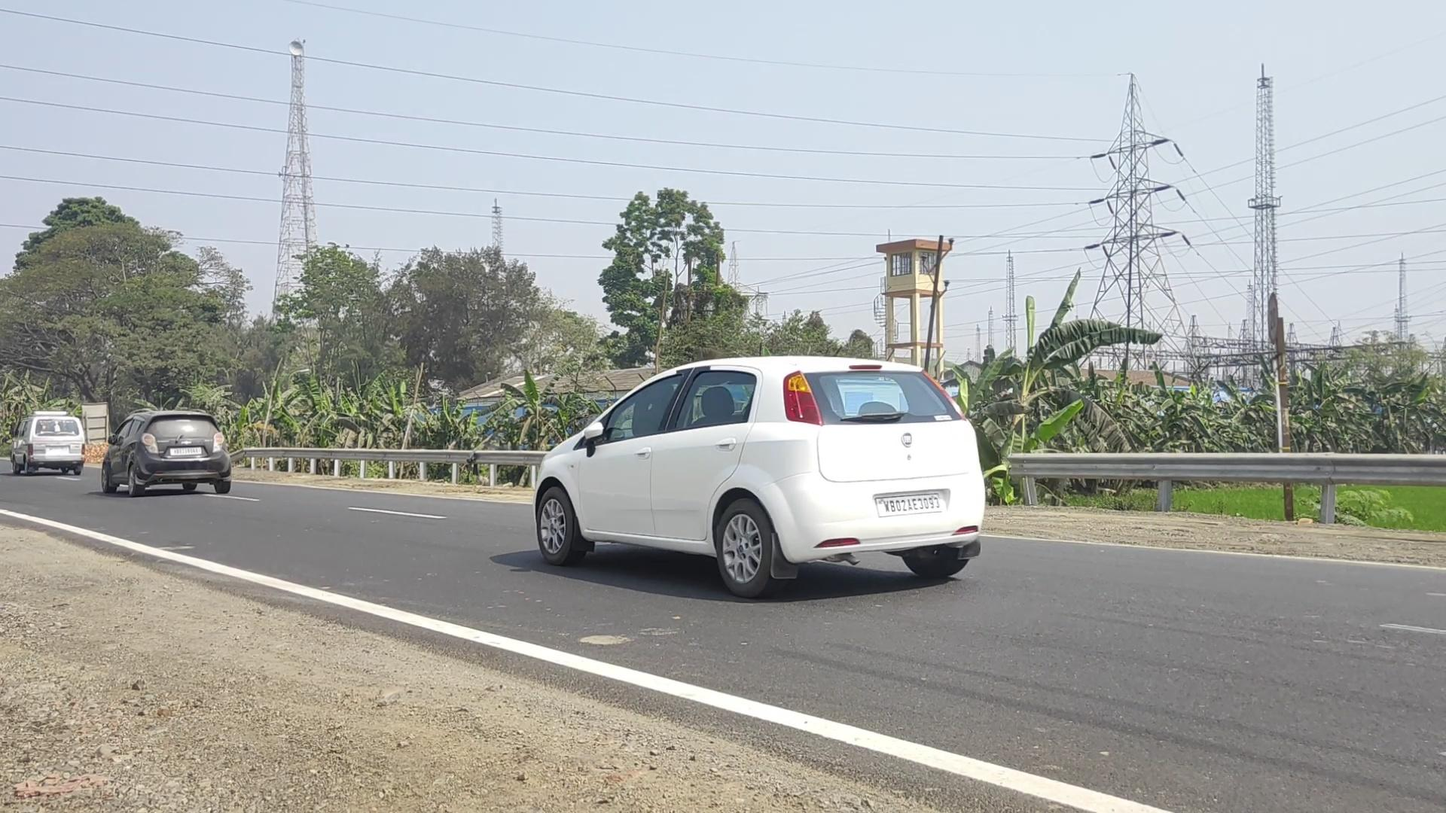car: (534, 356, 985, 599), (101, 409, 232, 498)
van: (11, 410, 86, 477)
